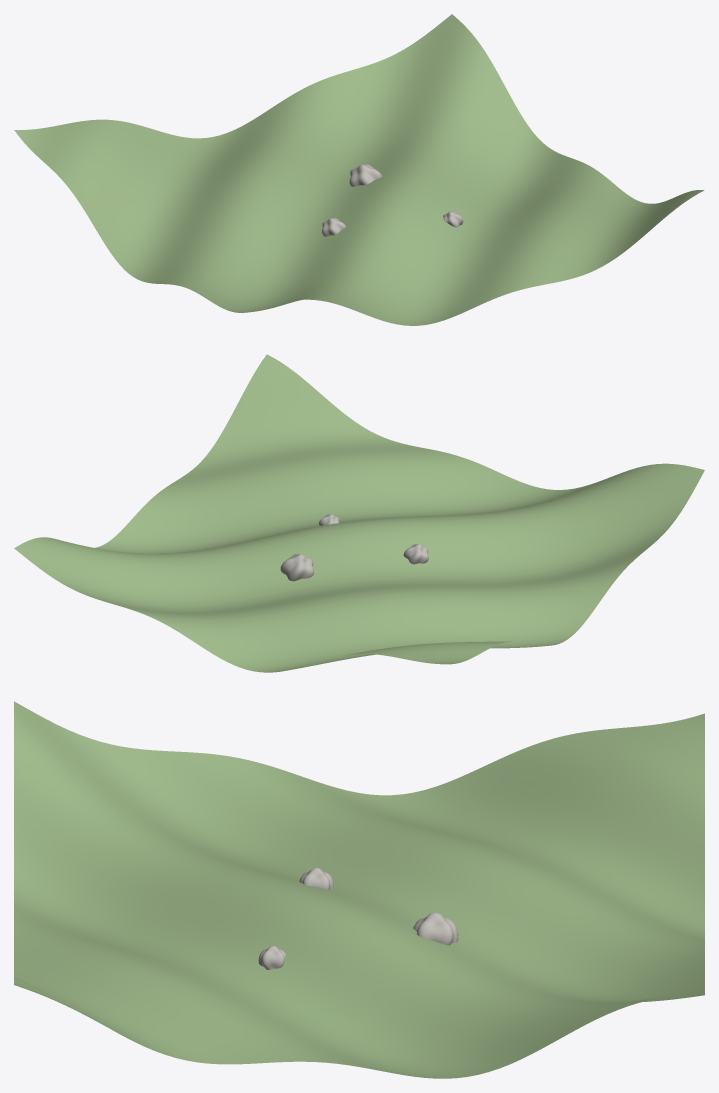
File: source.gltf
The picture shows the model from 3 angles, top to bottom: view 1: azimuth 30°, elevation 25°; view 2: azimuth 150°, elevation 25°; view 3: azimuth 270°, elevation 25°; orthographic projection. The views are drawn at different scales.
Visible parts, largest first — view 1: valley, boulder; view 2: valley, boulder; view 3: valley, boulder.
Boxes of the visible parts, bbox=[...] form: valley: bbox=[14, 14, 704, 325]; boulder: bbox=[349, 164, 382, 186]; valley: bbox=[14, 354, 704, 672]; boulder: bbox=[280, 553, 313, 581]; valley: bbox=[14, 701, 704, 1078]; boulder: bbox=[413, 912, 458, 945].
Bounding box in the file's own units: 128 × 22.31 × 128.
